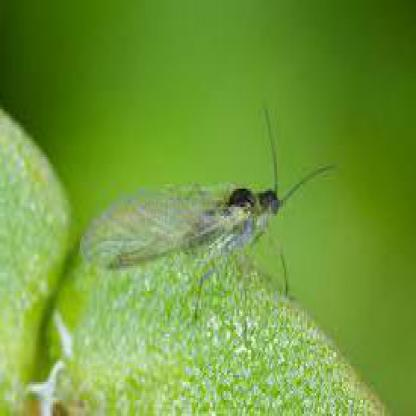schizaphis graminum: (83, 180, 280, 271)
